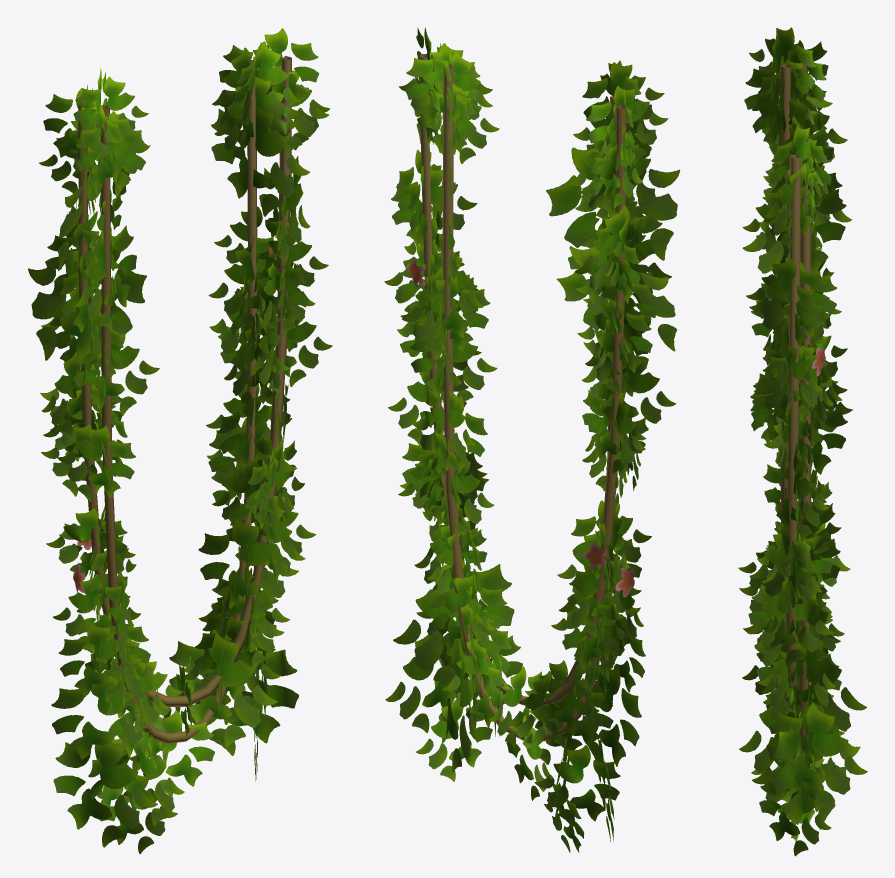
File: P_IvyCoastalVine05.obj
3 renders of one model, left to right at view 1: azimuth 30°, elevation 25°; view 2: azimuth 150°, elevation 25°; view 3: azimuth 270°, elevation 25°, orthographic.
Bounding box in the file's own units: 4.88 × 12.38 × 2.14.
